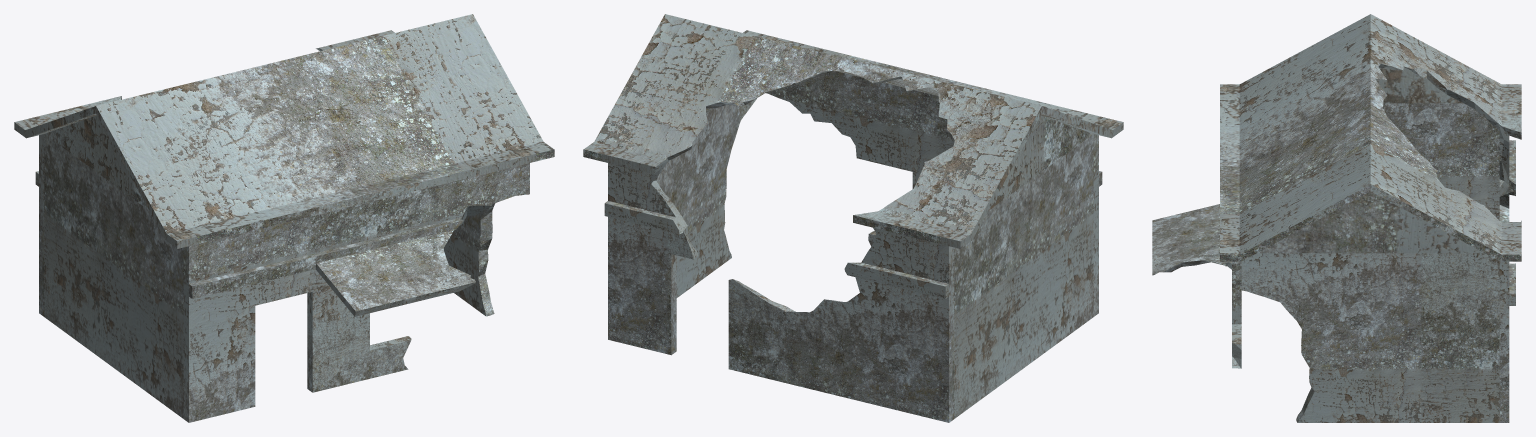
Rendered from nha xa 3_2.fbx.
3 views of the same model, side by side, from view 1: azimuth 30°, elevation 25°; view 2: azimuth 150°, elevation 25°; view 3: azimuth 270°, elevation 25° (orthographic). The views are drawn at different scales.
Parts seen in each view (by area): view 1: cube.016, cube.007, cube.010, cube.015, cube.013, cube.011, cube.012; view 2: cube.012, cube.016, cube.010, cube.007, cube.011, cube.014; view 3: cube.011, cube.016, cube.010, cube.015, cube.012, cube.007, cube.014.
Boxes of the visible parts, <box> form: cube.016: <box>14,14,554,248</box>; cube.007: <box>183,163,529,422</box>; cube.010: <box>44,115,183,418</box>; cube.015: <box>315,229,475,316</box>; cube.013: <box>189,217,463,298</box>; cube.011: <box>444,203,495,316</box>; cube.012: <box>39,134,44,316</box>; cube.012: <box>608,163,954,422</box>; cube.016: <box>583,14,1123,248</box>; cube.010: <box>954,115,1093,418</box>; cube.007: <box>766,71,1098,316</box>; cube.011: <box>656,98,756,297</box>; cube.014: <box>604,201,948,298</box>; cube.011: <box>1241,191,1499,422</box>; cube.016: <box>1220,14,1521,261</box>; cube.010: <box>1376,67,1499,220</box>; cube.015: <box>1152,204,1225,275</box>; cube.012: <box>1499,130,1509,422</box>; cube.007: <box>1232,261,1241,368</box>; cube.014: <box>1509,140,1515,305</box>.
Size of the model in its own units: 781 by 528 by 715.
Materials: 1 (1 with a texture image).
